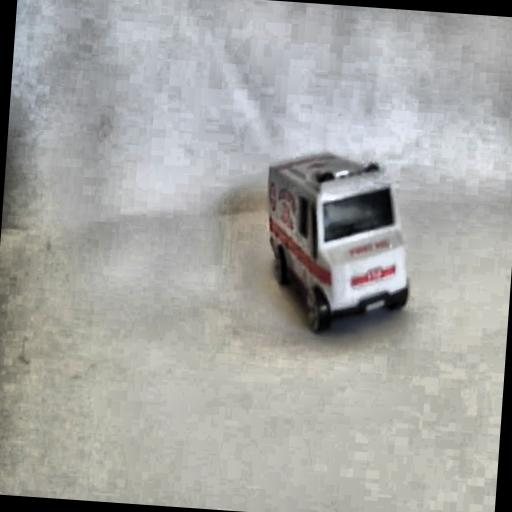ambulance: (257, 148, 418, 339)
